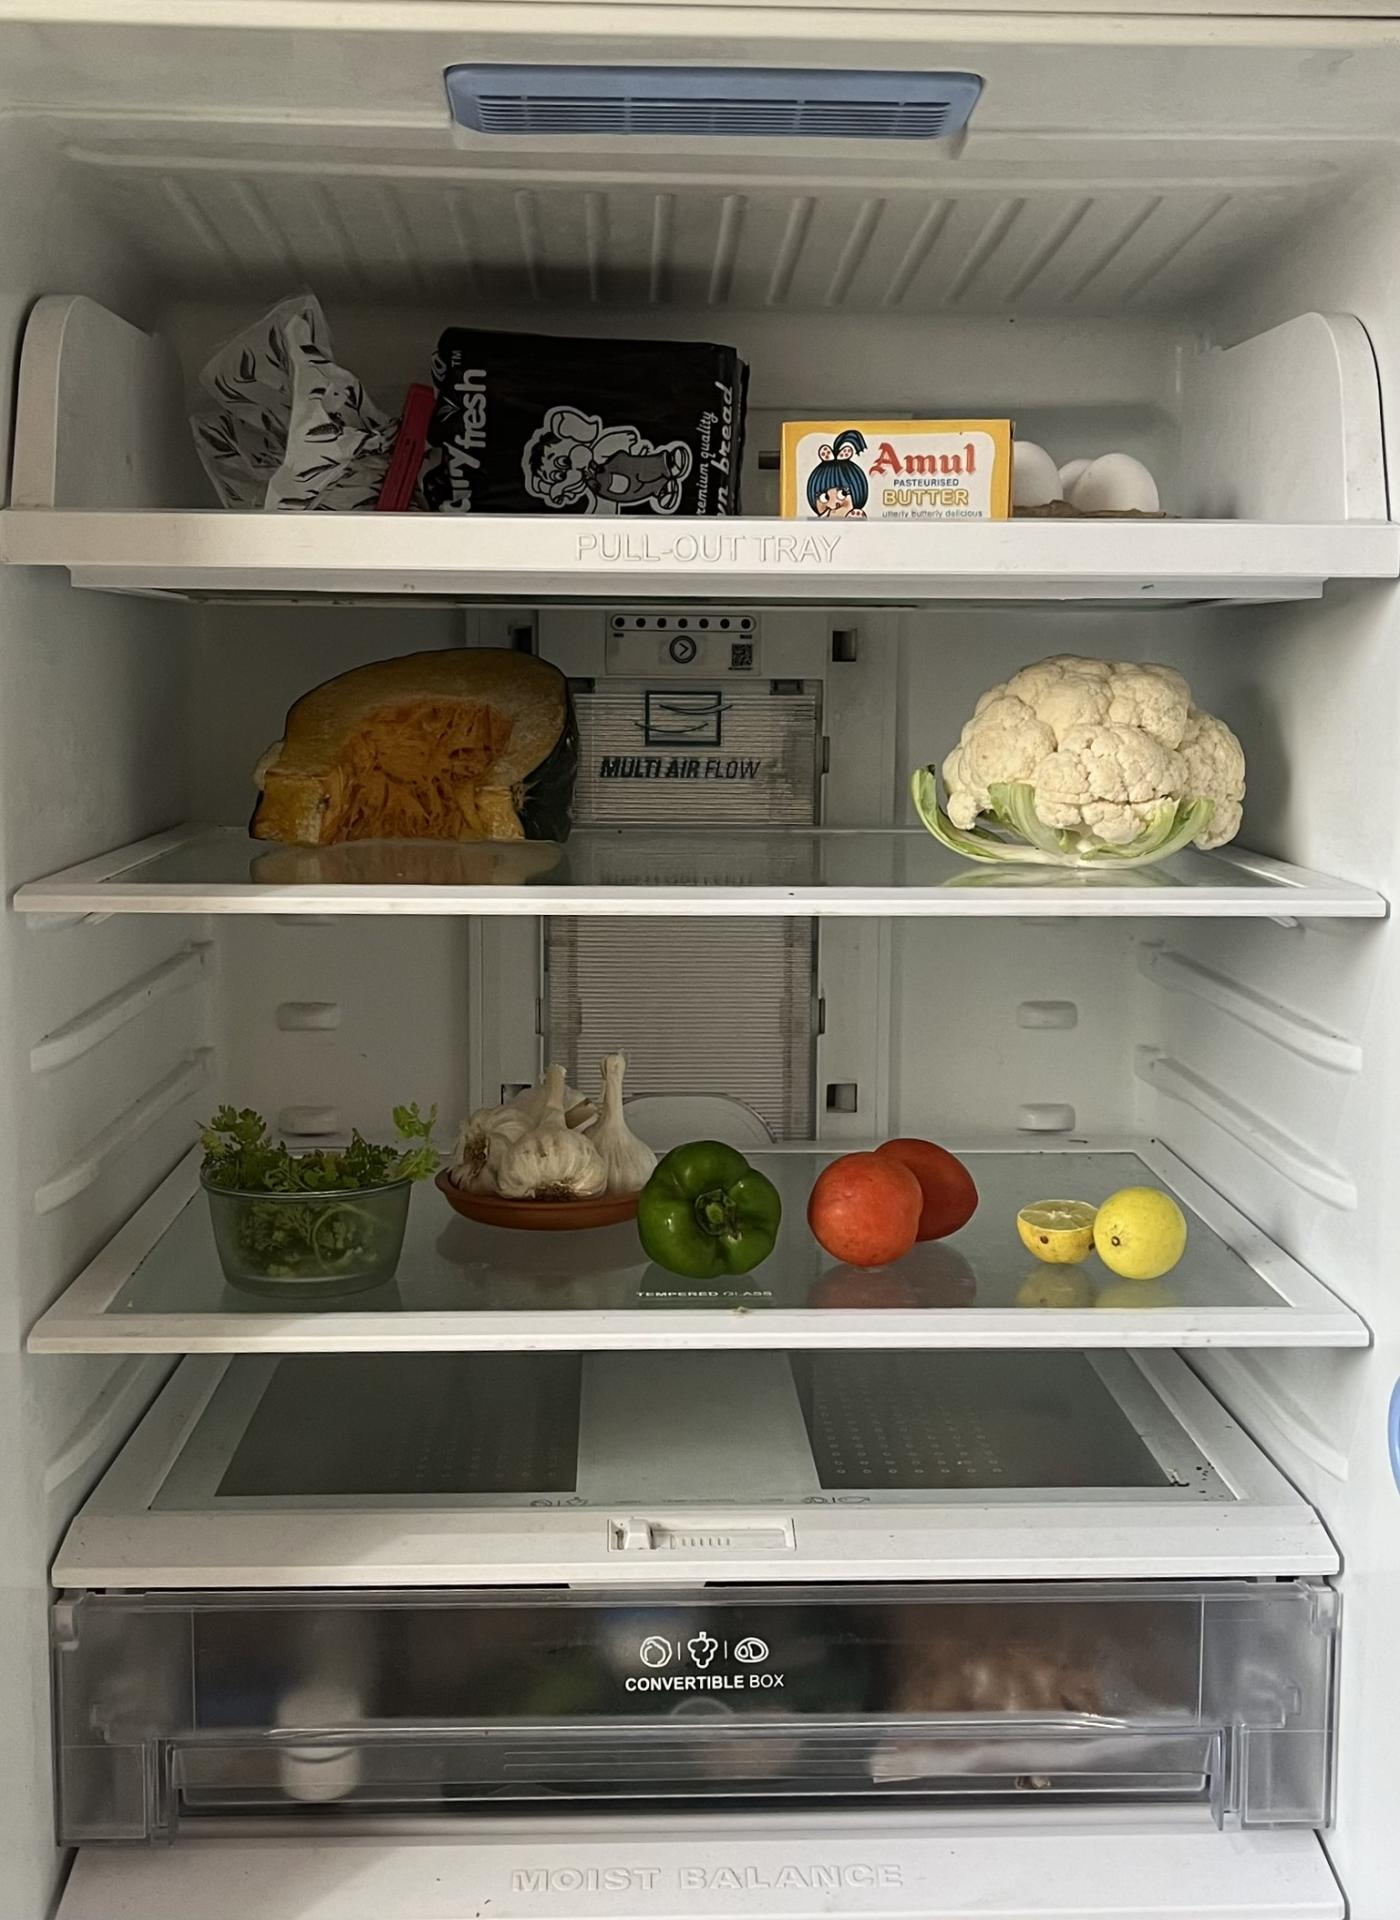bread: (201, 297, 754, 514)
butter: (781, 404, 1012, 514)
capsicum: (649, 1136, 772, 1280)
cauliflower: (927, 668, 1252, 865)
coriander: (201, 1112, 441, 1280)
egg: (1012, 437, 1164, 514)
ginger: (458, 1052, 650, 1193)
lemon: (1023, 1182, 1179, 1272)
pumpkin: (265, 640, 581, 844)
tomato: (817, 1136, 981, 1272)
